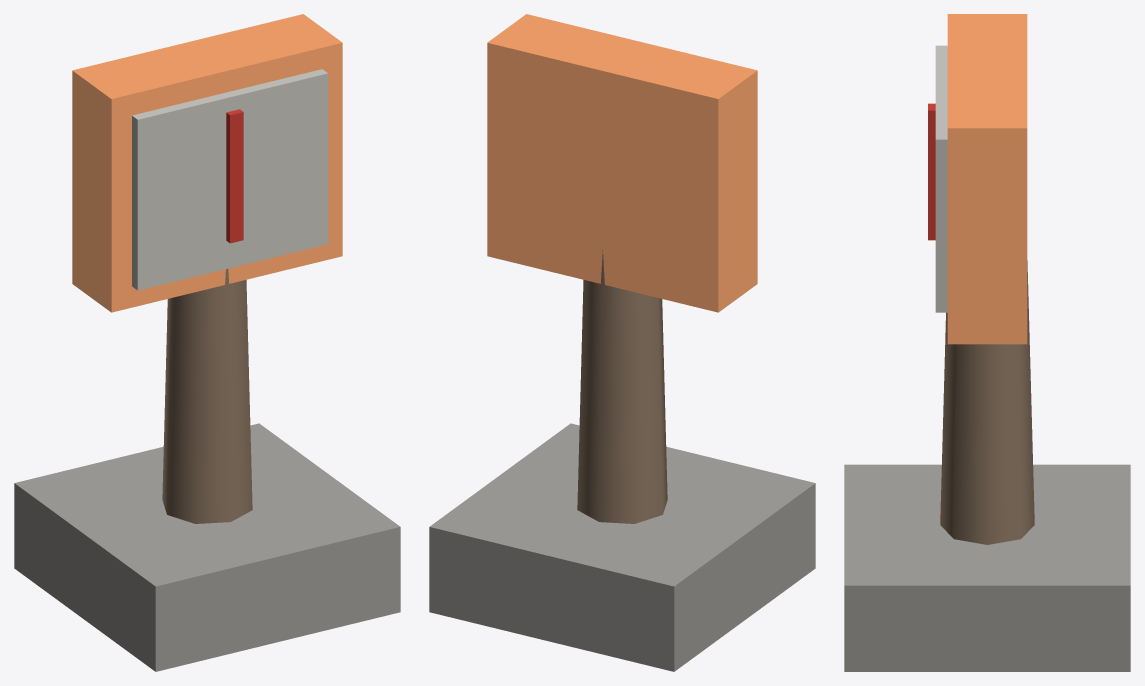
The model's file is build_level_sensor.glb.
3 views of the same model, side by side, from view 1: azimuth 30°, elevation 25°; view 2: azimuth 150°, elevation 25°; view 3: azimuth 270°, elevation 25° (orthographic).
Parts seen in each view (by area): view 1: Baked, _MeshInstance3D_671; view 2: Baked; view 3: Baked, _MeshInstance3D_671.
Boxes of the visible parts, bbox=[...] form: Baked: bbox=[14, 14, 400, 671]; _MeshInstance3D_671: bbox=[226, 109, 243, 243]; Baked: bbox=[429, 14, 815, 671]; Baked: bbox=[844, 14, 1130, 671]; _MeshInstance3D_671: bbox=[928, 103, 935, 240].
Size of the model in its own units: 0.36 by 0.75 by 0.36.
